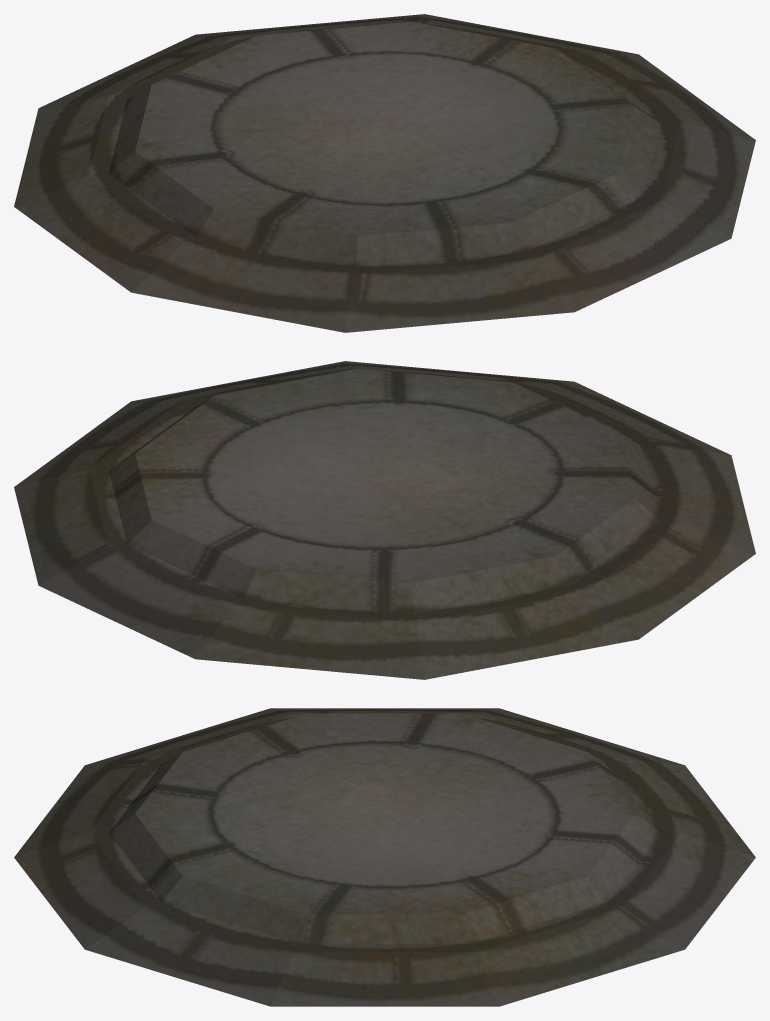
Rendered from bueiro_mod.fbx.
3 renders of one model, top to bottom at view 1: azimuth 30°, elevation 25°; view 2: azimuth 150°, elevation 25°; view 3: azimuth 270°, elevation 25°, orthographic. The views are drawn at different scales.
Parts seen in each view (by area): view 1: Cube.001; view 2: Cube.001; view 3: Cube.001.
Boxes of the visible parts, bbox=[...] form: Cube.001: bbox=[14, 14, 755, 332]; Cube.001: bbox=[14, 361, 755, 679]; Cube.001: bbox=[14, 708, 755, 1006].
Size of the model in its own units: 106 by 7.21 by 111.
